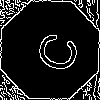C: (25, 25, 82, 77)
